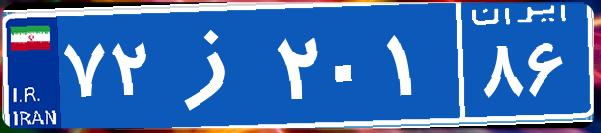0: (330, 28, 385, 110)
1: (385, 28, 445, 110)
2: (273, 28, 330, 110), (110, 28, 158, 105)
6: (525, 38, 570, 115)
7: (57, 26, 110, 107)
8: (475, 38, 525, 113)
ز: (158, 15, 273, 115)
